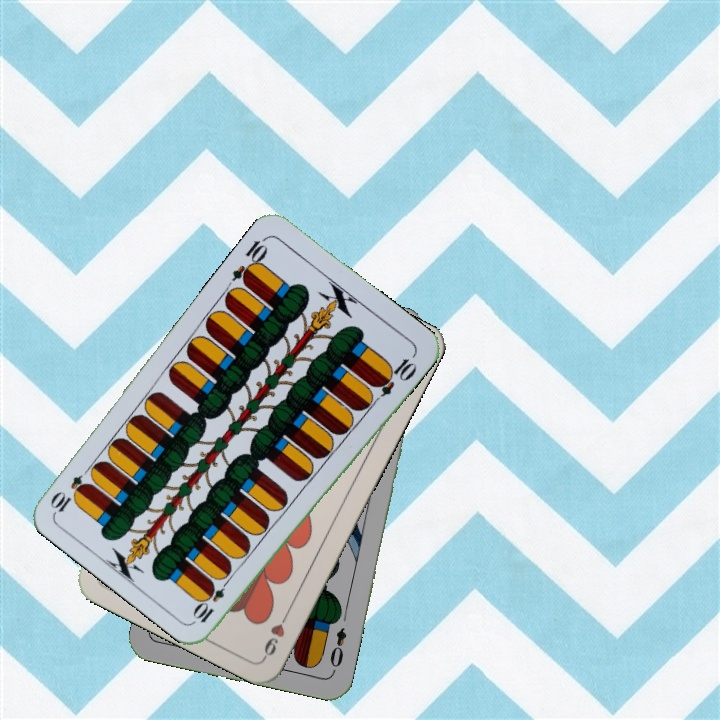E10: (190, 572, 234, 626), (228, 233, 271, 288)
EO: (326, 623, 350, 675)
H9: (259, 606, 293, 661)
